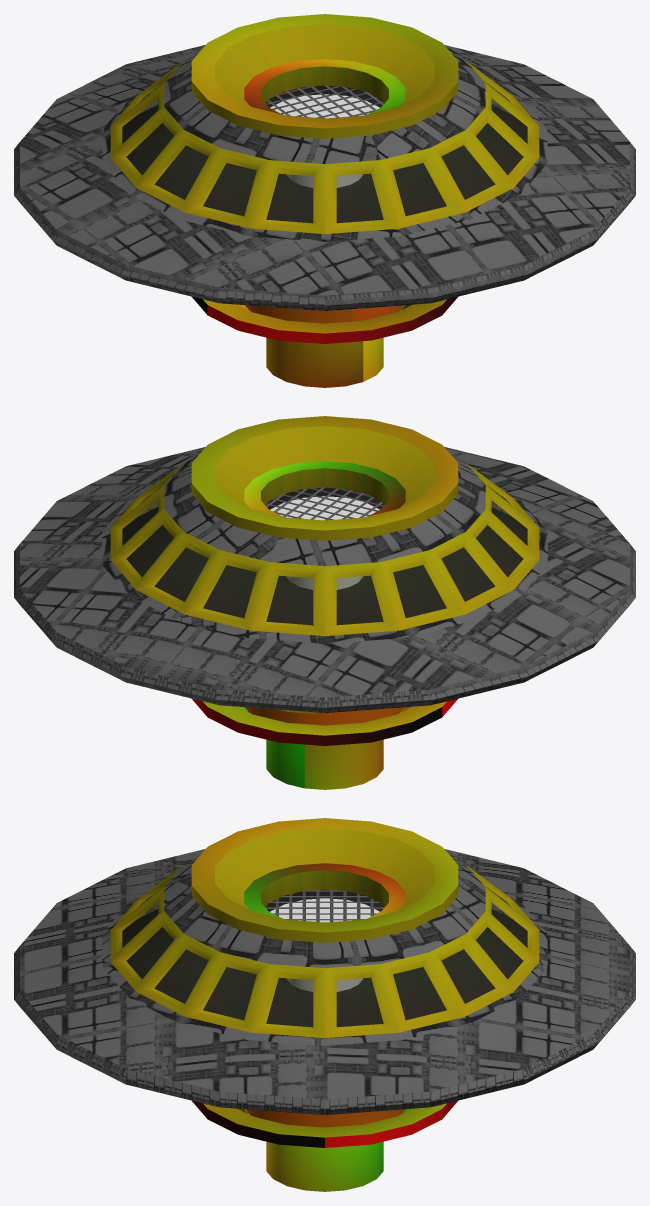
The model's file is Scifi-structure-Module-02.FBX.
3 views of the same model, one above another, from view 1: azimuth 30°, elevation 25°; view 2: azimuth 150°, elevation 25°; view 3: azimuth 270°, elevation 25° (orthographic).
Parts seen in each view (by area): view 1: Scifi-structure-Module-02, Inside-scifi-structure-Module-02; view 2: Scifi-structure-Module-02, Inside-scifi-structure-Module-02; view 3: Scifi-structure-Module-02, Inside-scifi-structure-Module-02.
Boxes of the visible parts, x1,y1,x2,y2 form: Scifi-structure-Module-02: [14, 14, 635, 387]; Inside-scifi-structure-Module-02: [122, 85, 527, 223]; Scifi-structure-Module-02: [14, 416, 635, 789]; Inside-scifi-structure-Module-02: [122, 487, 527, 625]; Scifi-structure-Module-02: [14, 818, 635, 1191]; Inside-scifi-structure-Module-02: [122, 889, 527, 1027].
Bounding box in the file's own units: 38.65 × 38.06 × 19.68.
